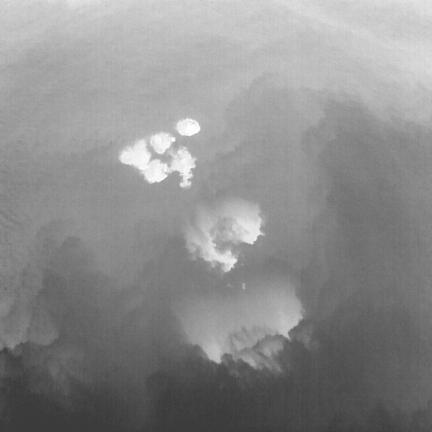flukeprints: (167, 147, 195, 187), (119, 139, 151, 173), (142, 159, 167, 182), (149, 132, 175, 154), (176, 118, 200, 136)
